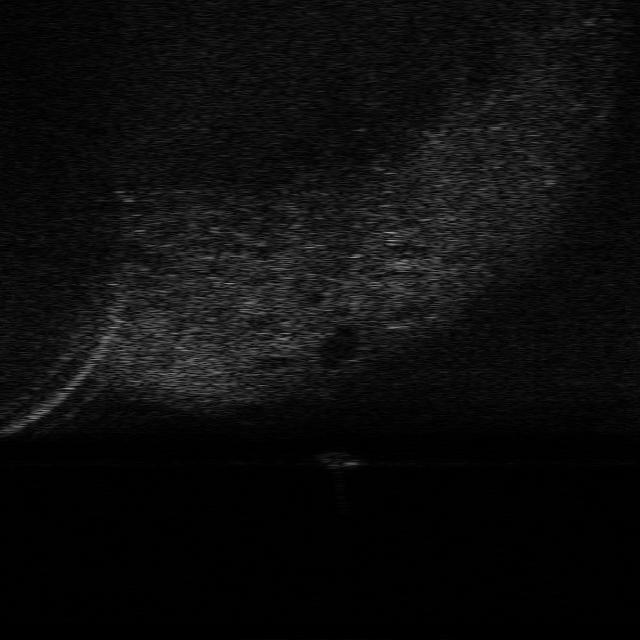cube: (315, 448, 366, 470)
